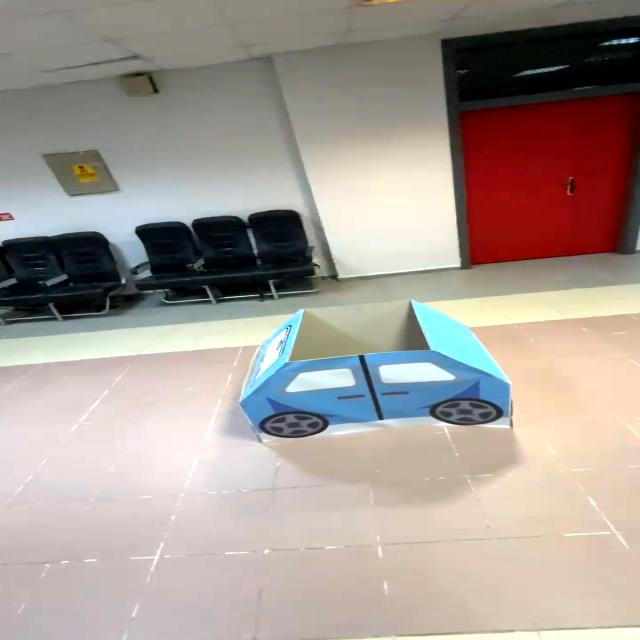blue_car: (203, 292, 568, 464)
